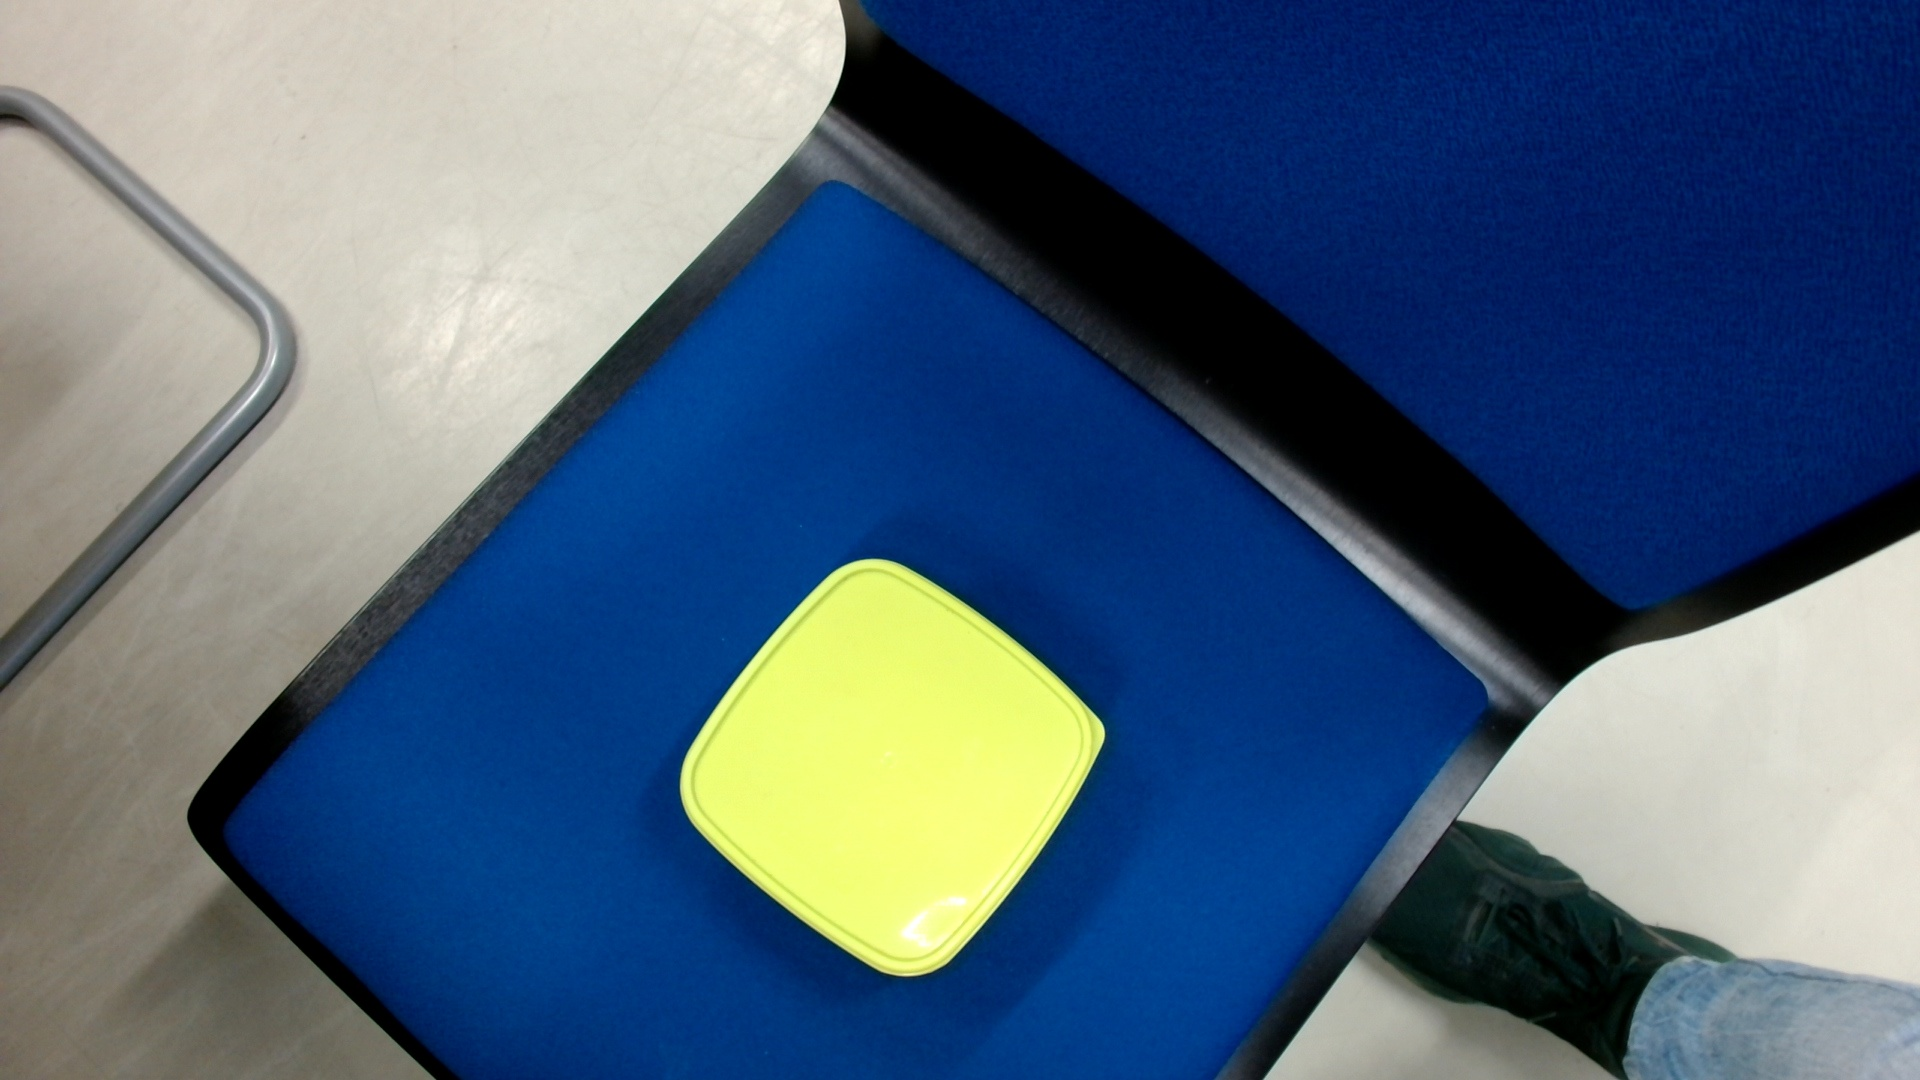Box: (670, 550, 1114, 993)
